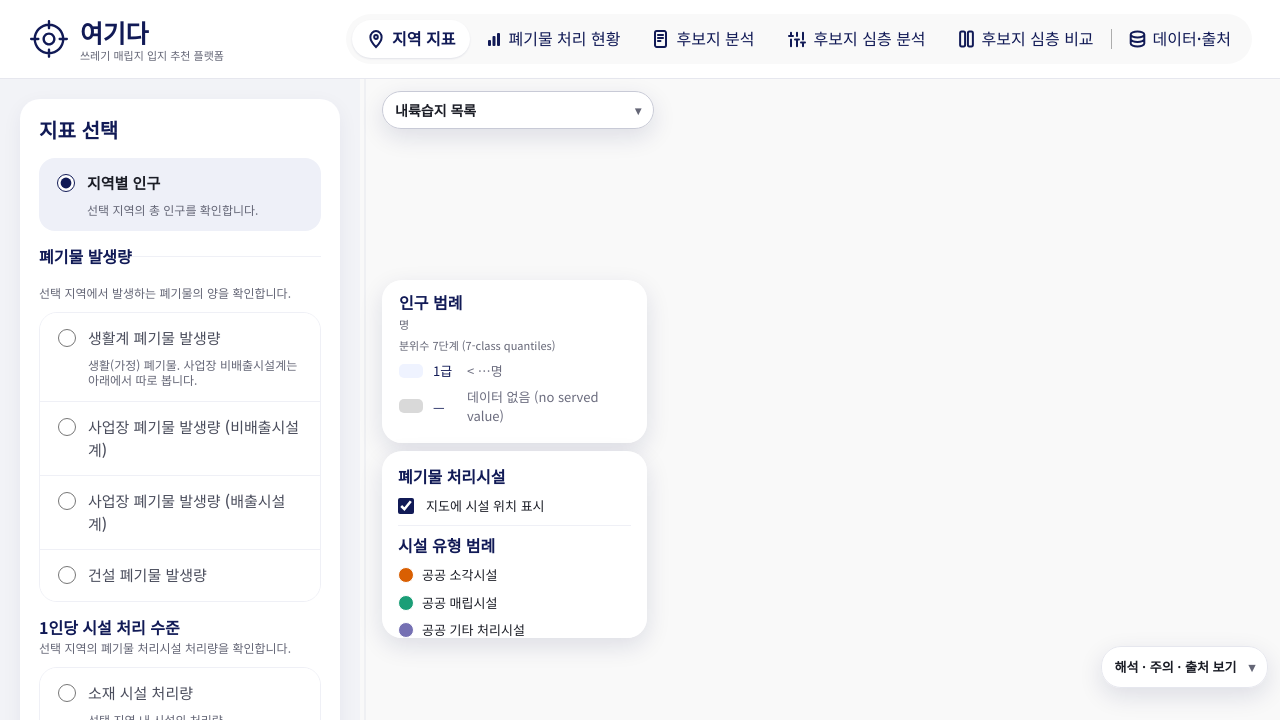
Test case: ② 계산 모델 가중치 설정 — nothing left the product › keeps the active profile's method sentence one keystroke away
Click the button with test id "mode-suitability": click(856, 39) x1=772 y1=20 x2=941 y2=58
(page scrolled)
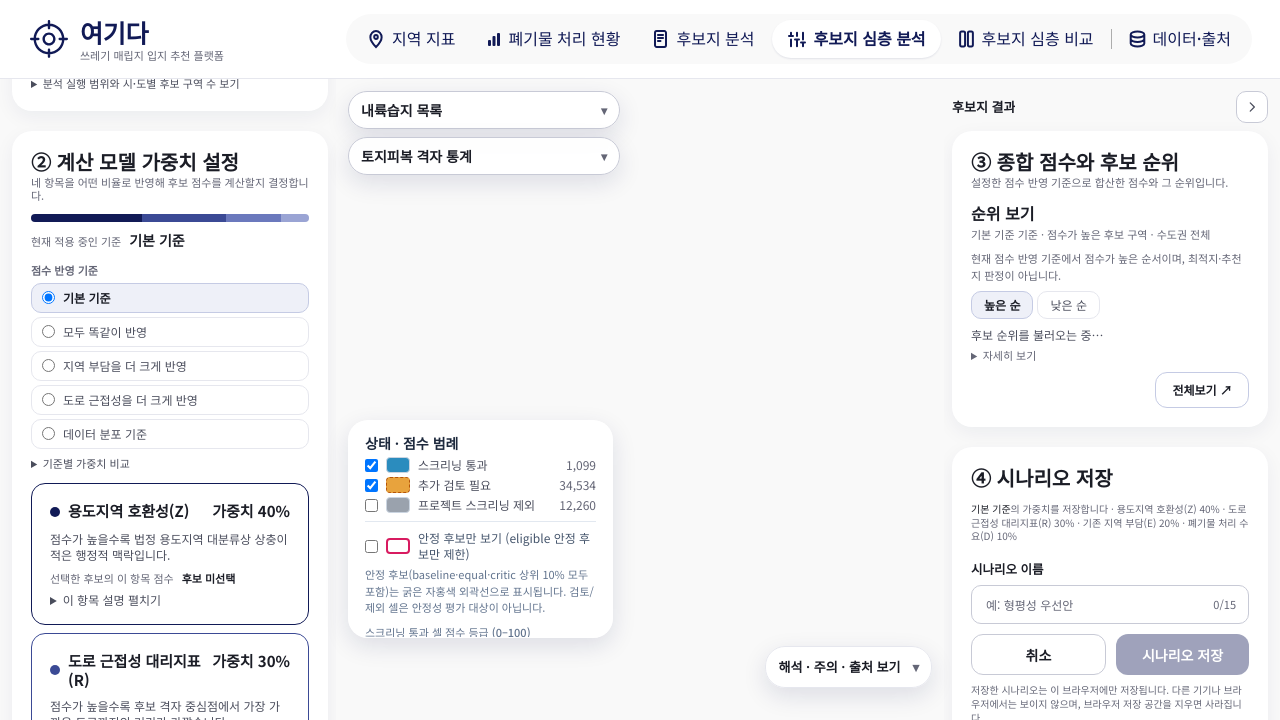
Click the radio button with test id "profile-radio-access_focused": click(48, 400) x1=42 y1=393 x2=55 y2=406
(page scrolled)
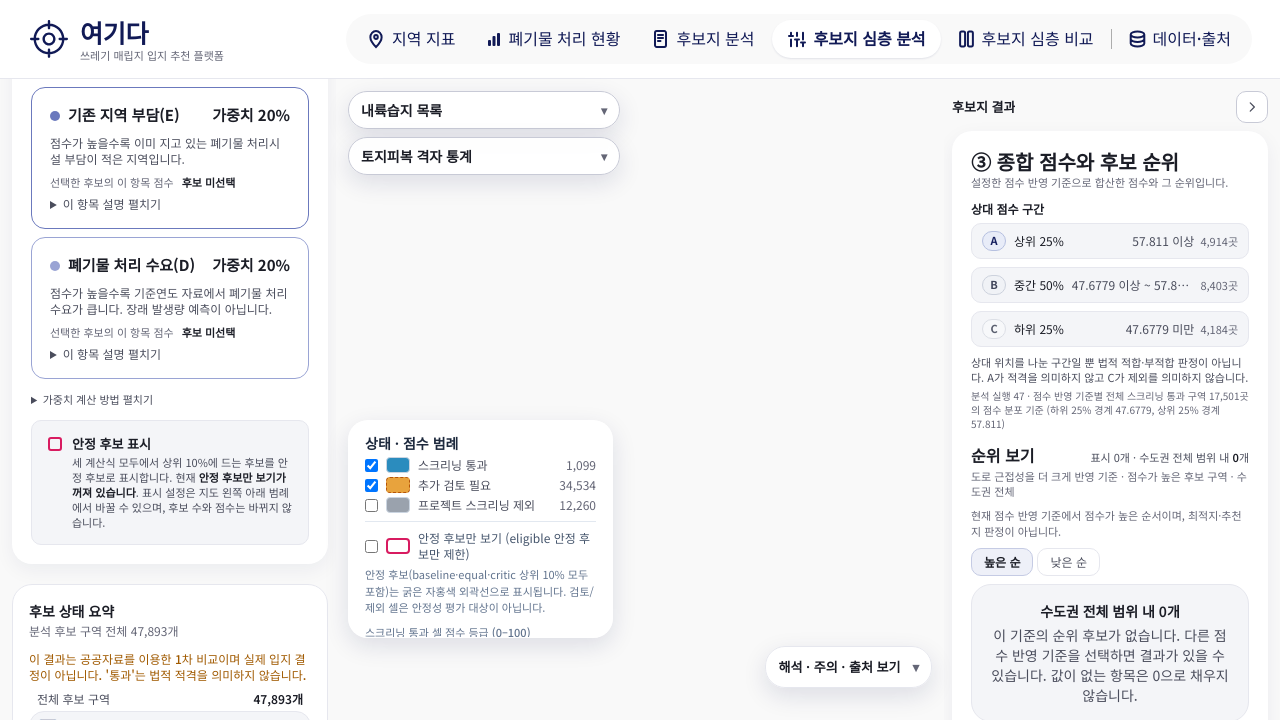
Expected: the element showing "가중치 계산 방법 펼치기" is shown, x1=43 y1=391 x2=153 y2=407
